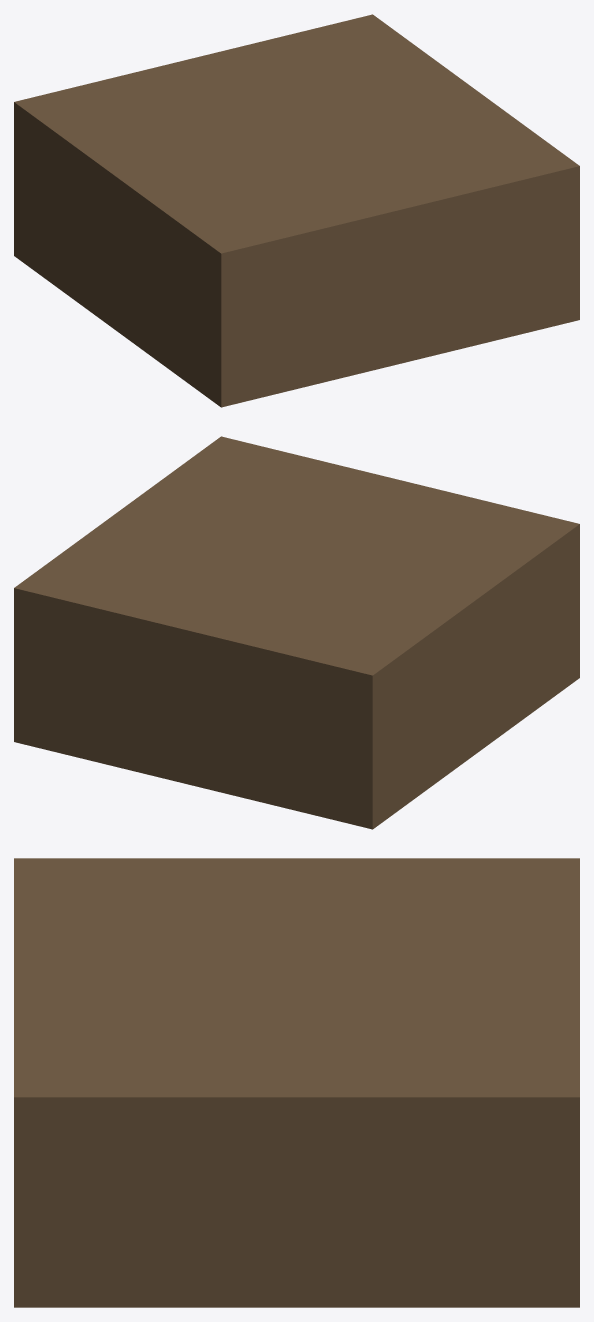
Rendered from rpgpp_ag_wall_connector_bottom_corner_01_3x3.fbx.
The picture shows the model from 3 angles, top to bottom: view 1: azimuth 30°, elevation 25°; view 2: azimuth 150°, elevation 25°; view 3: azimuth 270°, elevation 25°; orthographic projection. The views are drawn at different scales.
Visible parts, largest first — view 1: rpgpp_ag_wall_connector_bottom_corner_01_3x3; view 2: rpgpp_ag_wall_connector_bottom_corner_01_3x3; view 3: rpgpp_ag_wall_connector_bottom_corner_01_3x3.
Part boxes in pixels (<box>): rpgpp_ag_wall_connector_bottom_corner_01_3x3: <box>14,14,579,407</box>; rpgpp_ag_wall_connector_bottom_corner_01_3x3: <box>14,436,579,829</box>; rpgpp_ag_wall_connector_bottom_corner_01_3x3: <box>14,858,579,1307</box>.
Size of the model in its own units: 0.72 by 0.2952 by 0.72.
